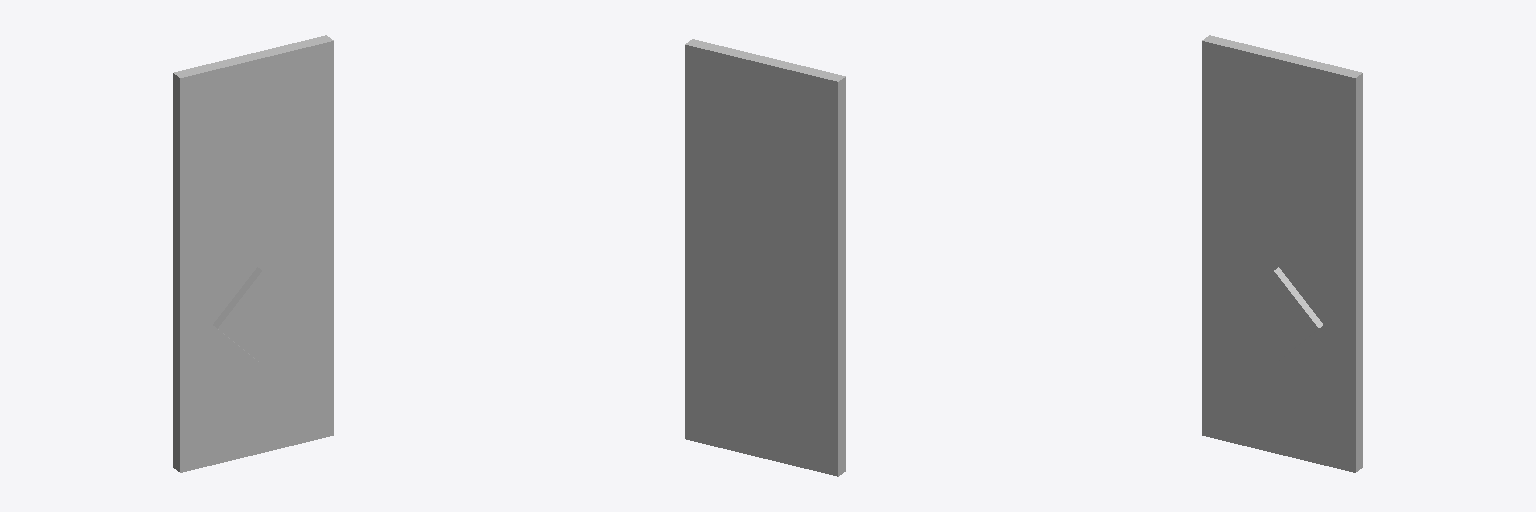
The model's file is Nano_PCB.obj.
The picture shows the model from 3 angles: view 1: azimuth 30°, elevation 25°; view 2: azimuth 150°, elevation 25°; view 3: azimuth 330°, elevation 25°; orthographic projection.
Visible parts, largest first — view 1: PCB_nano; view 2: PCB_nano; view 3: PCB_nano.
Part boxes in pixels (left/top/right/bottom): PCB_nano: left=173, top=35, right=333, bottom=472; PCB_nano: left=685, top=39, right=845, bottom=476; PCB_nano: left=1202, top=35, right=1362, bottom=472.
Size of the model in its own units: 0.0175 by 0.043 by 0.0025.